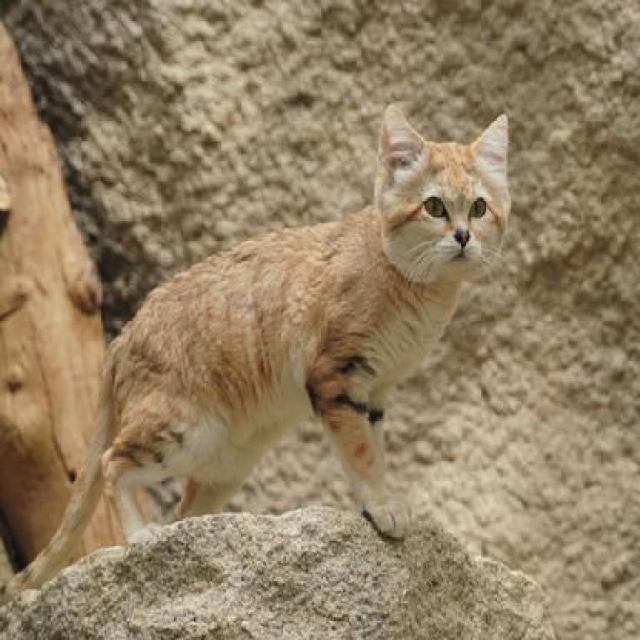cat: (5, 108, 512, 598)
